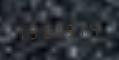five: (65, 19, 76, 39)
four: (89, 18, 100, 37)
one: (17, 22, 28, 41), (53, 20, 64, 39), (77, 19, 88, 38)
six: (41, 20, 52, 40)
three: (29, 21, 40, 40)
